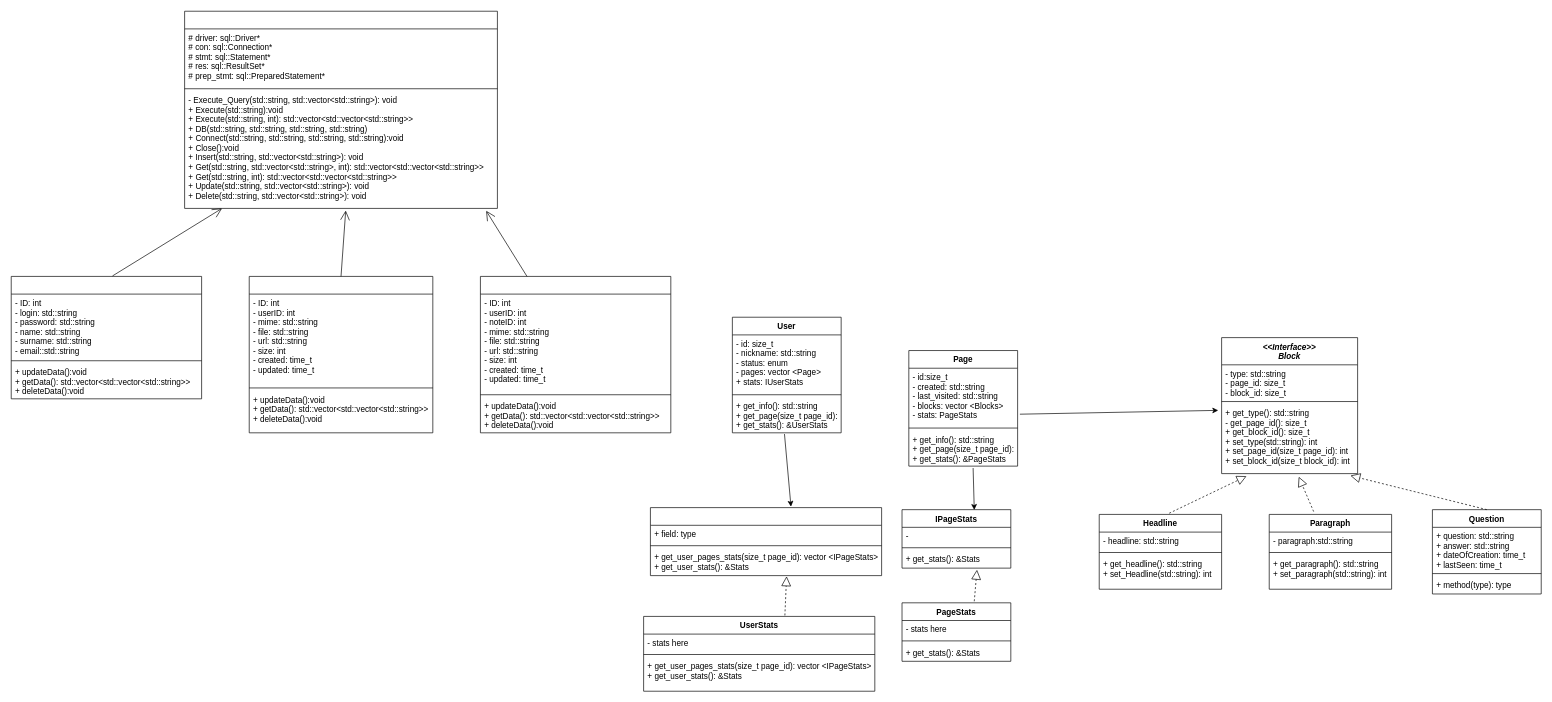
This 1552x702 diagram has some shape labels left out. The box of each missing label's shape, as (x1, y1, x2, y2) in pixels:
DB: (184, 11, 497, 208)
IUserStats: (650, 507, 882, 576)
Notes: (249, 276, 433, 433)
Tests: (480, 276, 671, 433)
Users: (11, 276, 202, 399)
